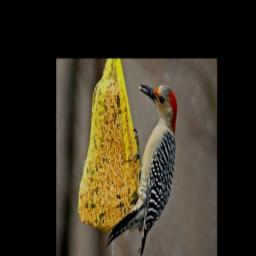Woodpecker: (103, 77, 188, 254)
